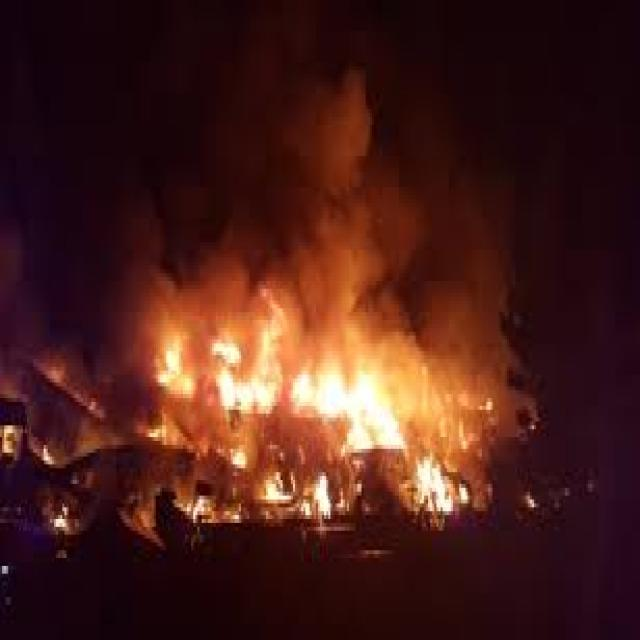Fire: (283, 331, 400, 453), (161, 482, 226, 536), (244, 468, 297, 524), (158, 336, 196, 398), (220, 372, 274, 413), (414, 458, 450, 516), (215, 320, 248, 374), (312, 476, 330, 518)
Smoke: (256, 78, 404, 271), (407, 94, 514, 326), (120, 179, 206, 315)
